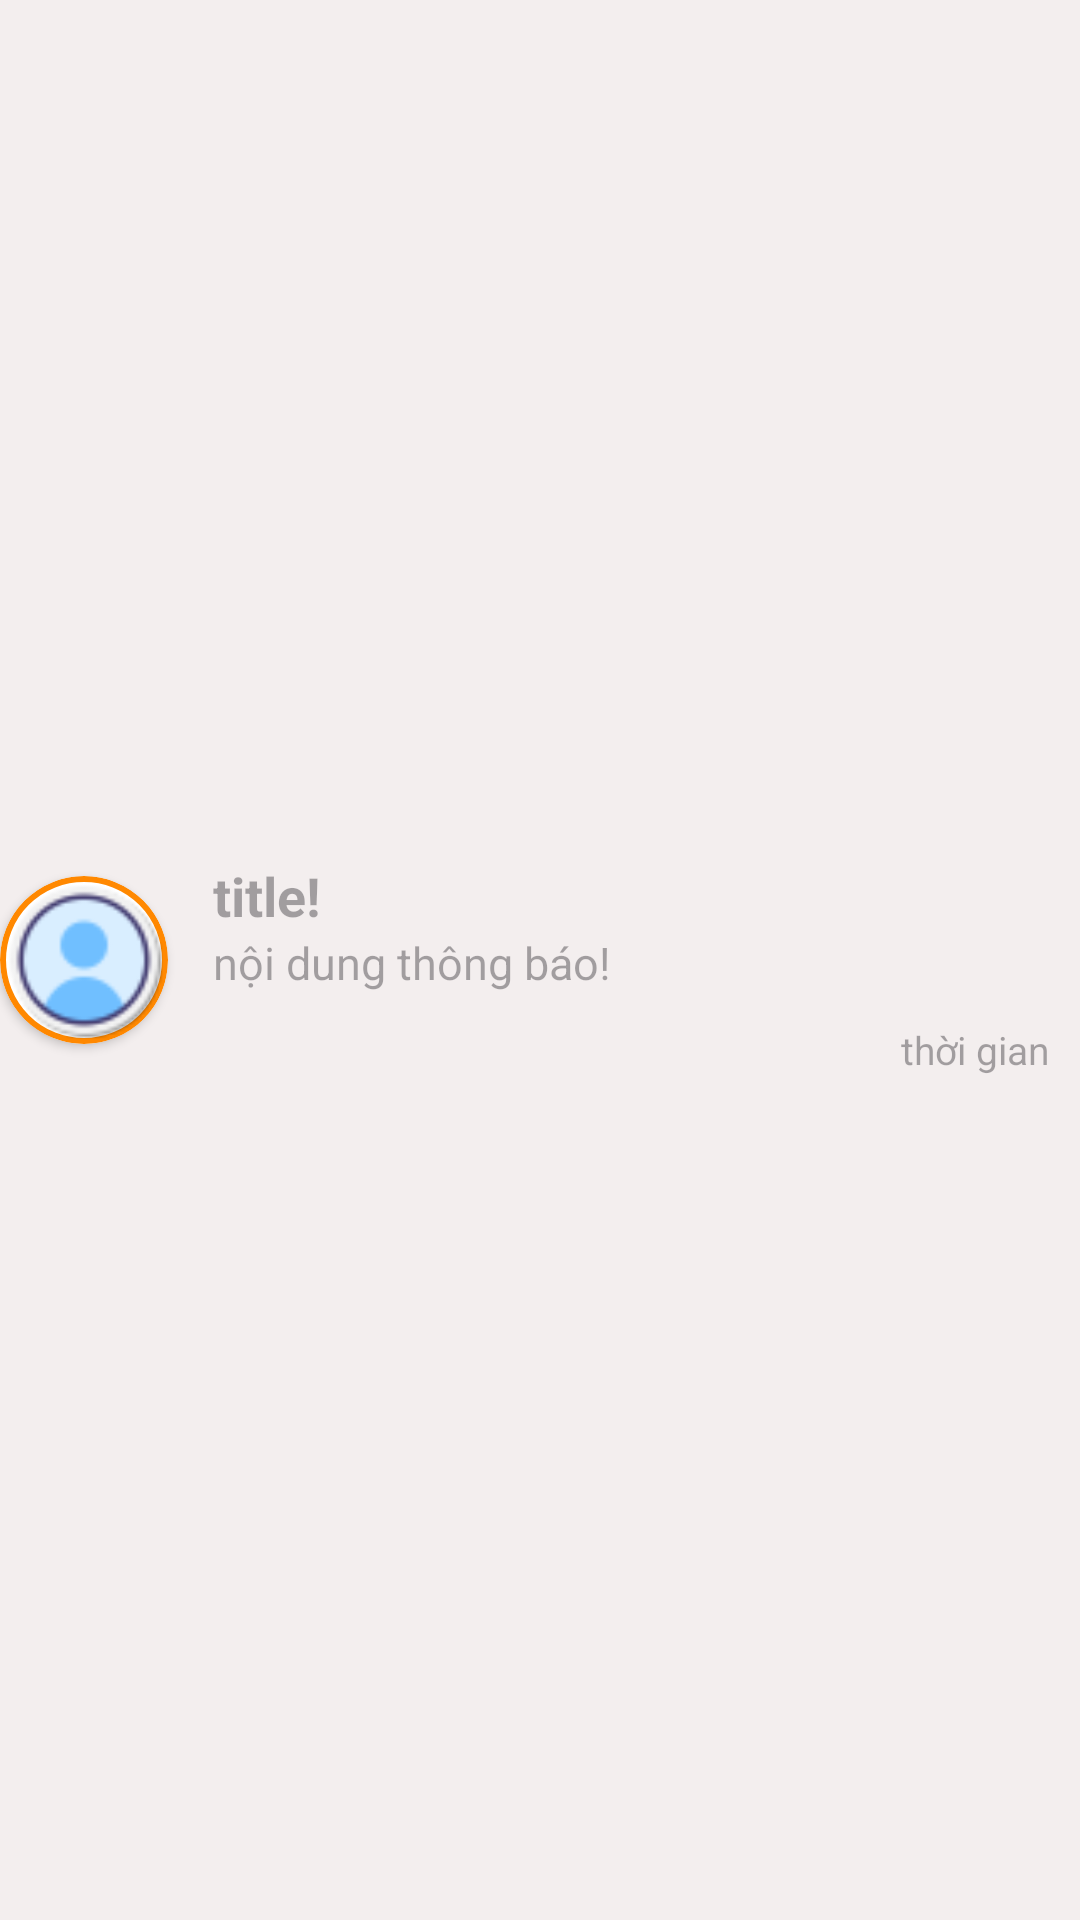

Screen size 1080 × 1920. Icon name, then its center in pixels as point (x, y):
account: point (84, 960)
